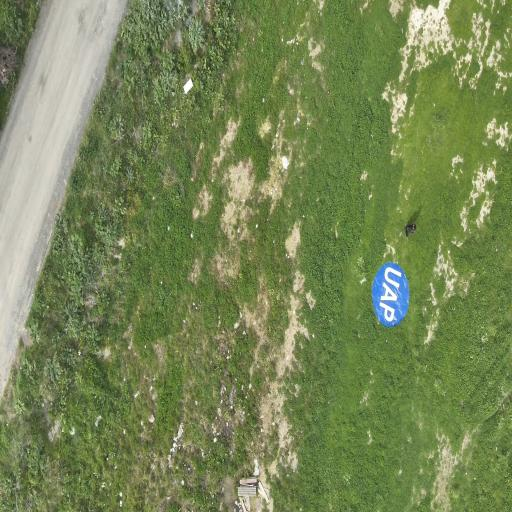person: (406, 224, 416, 237)
uap: (372, 262, 409, 327)
